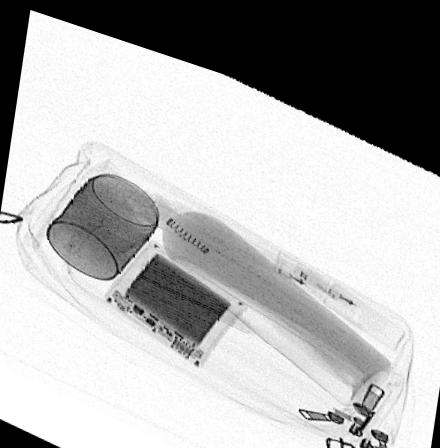Powerbank: (102, 227, 247, 355)
